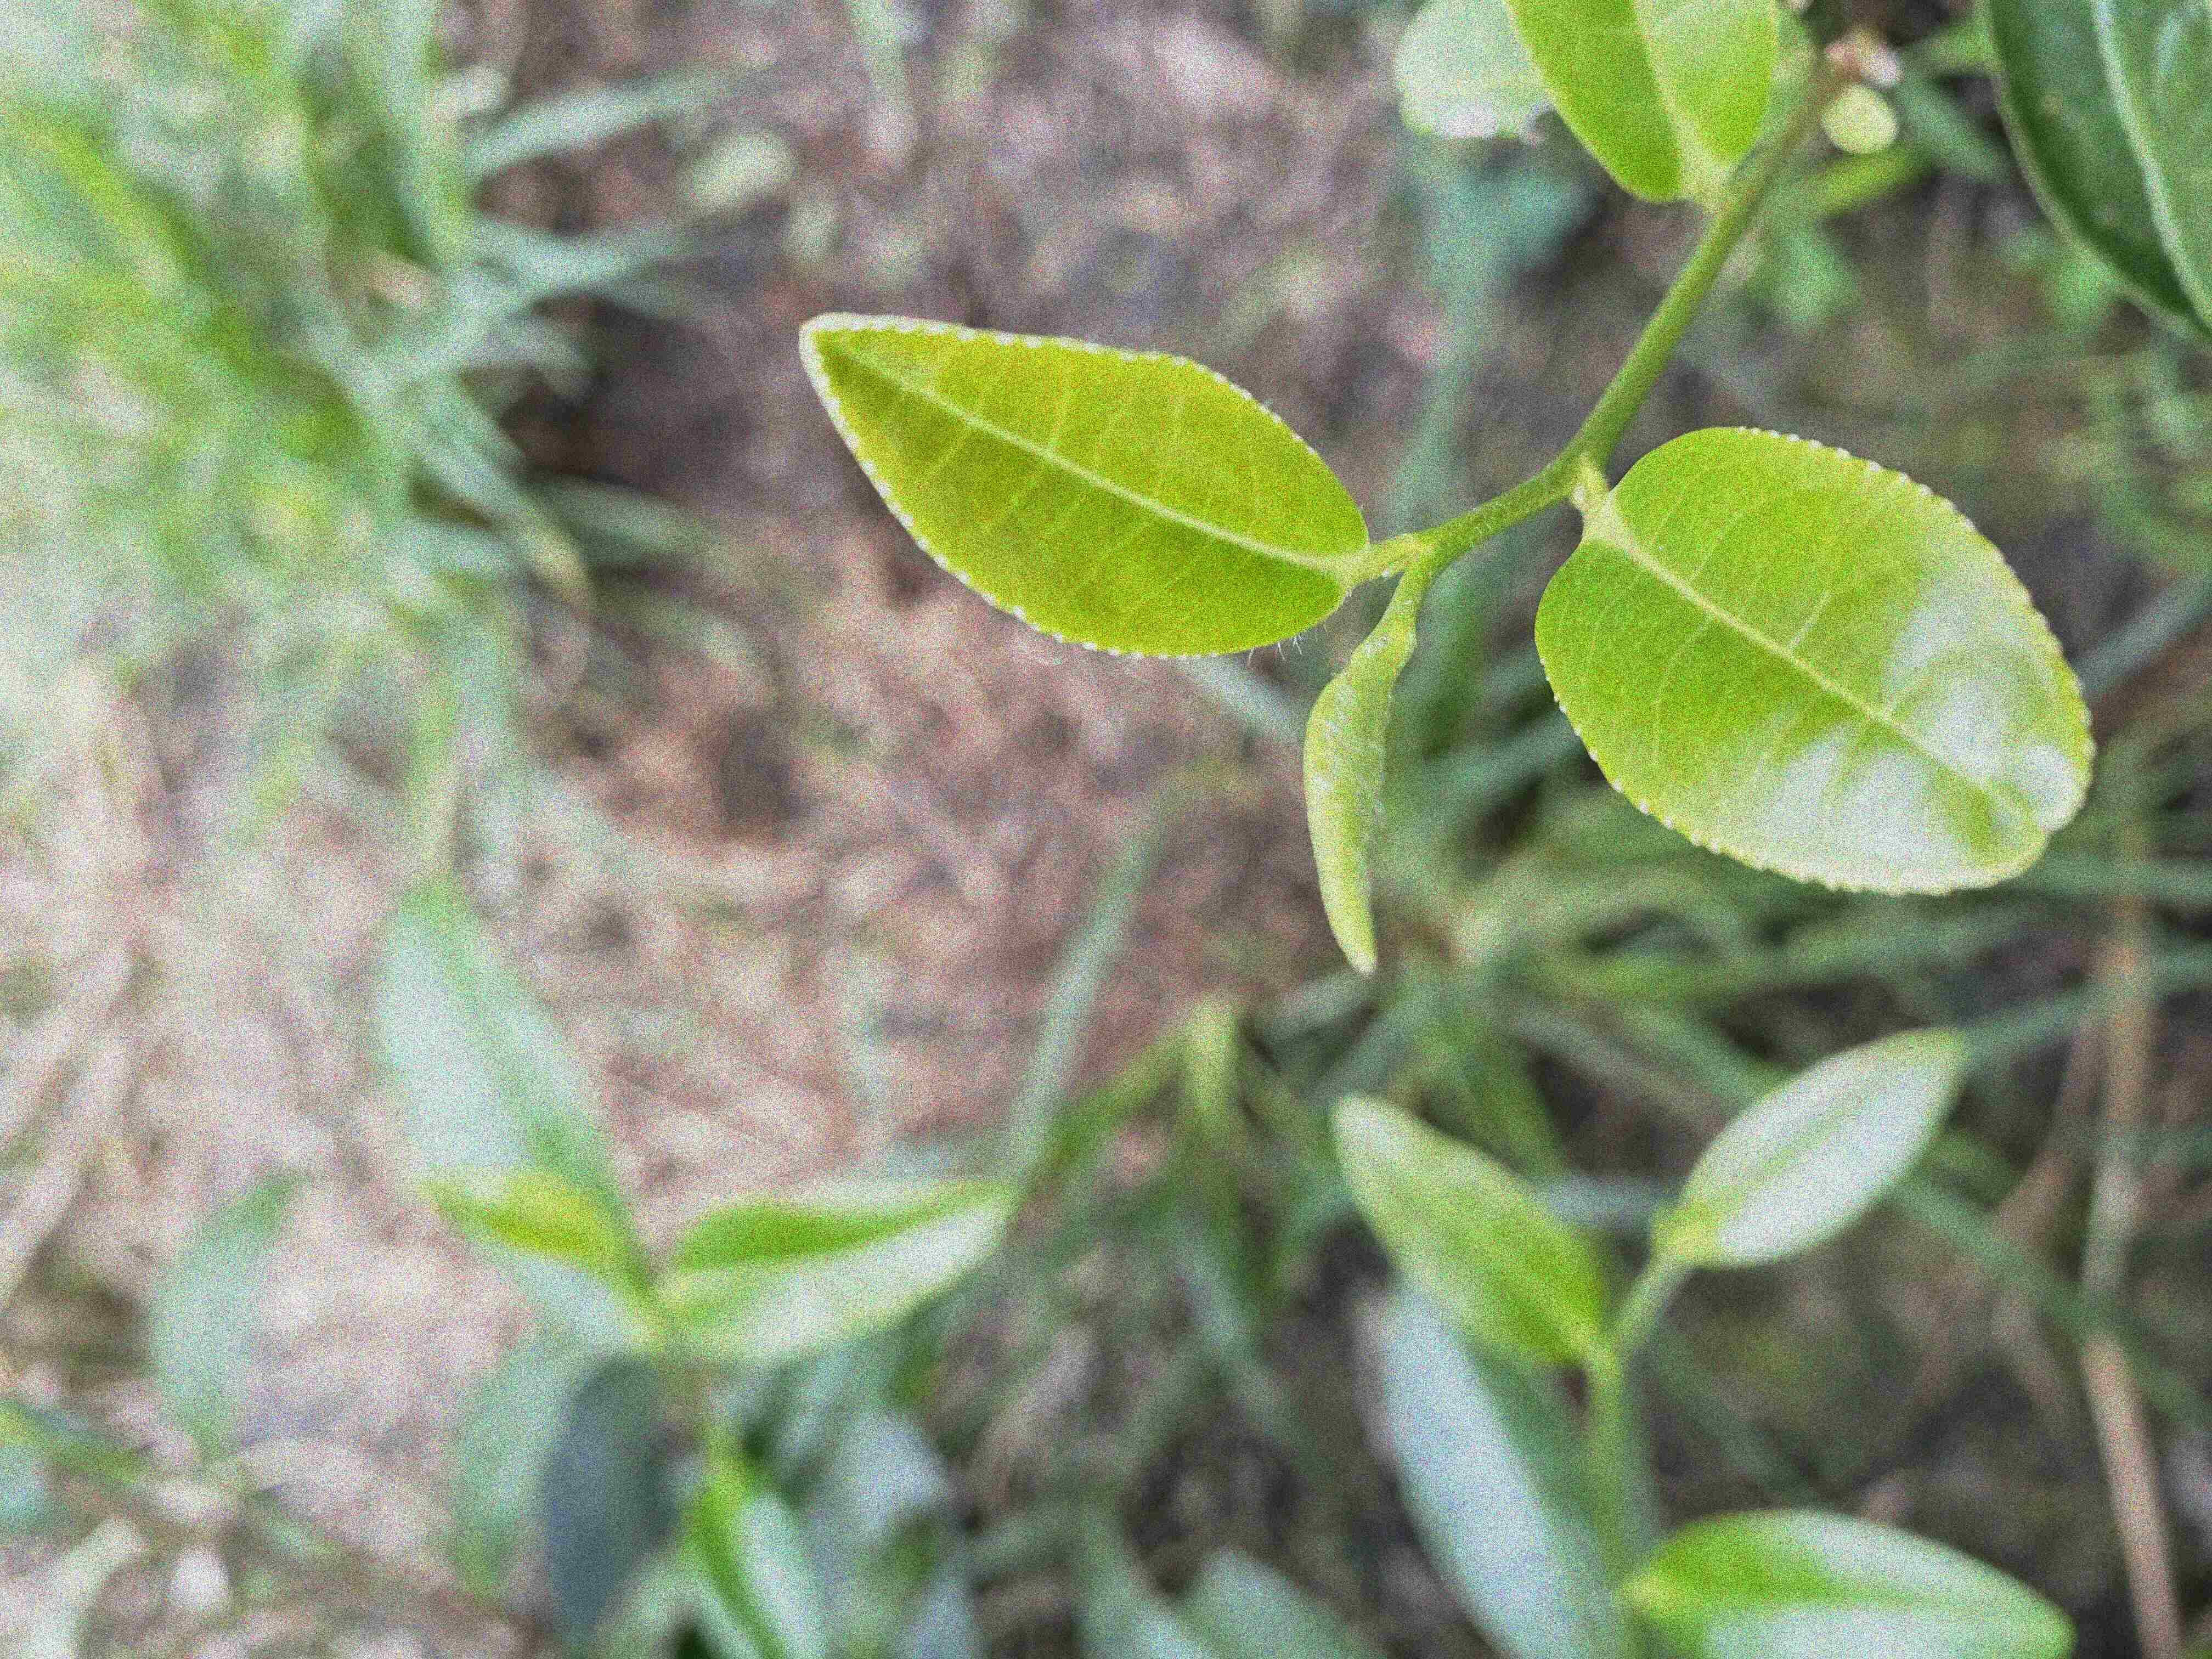healthy: (1534, 425, 2099, 897), (796, 315, 1367, 664)
